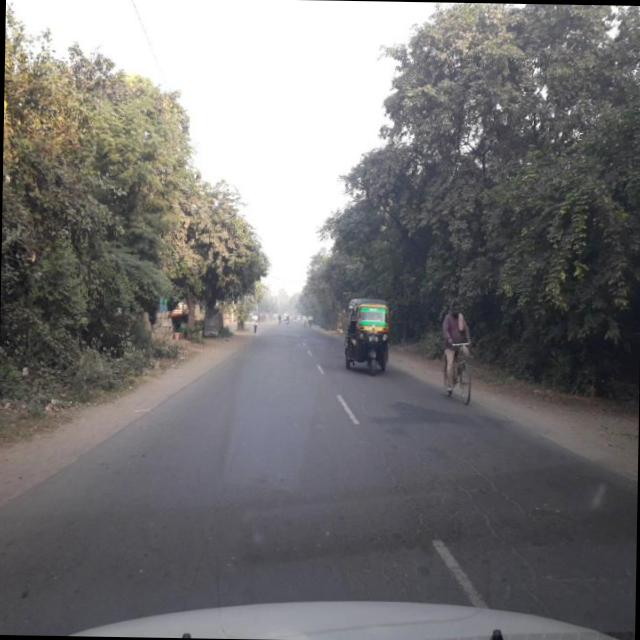crack: (434, 452, 562, 592)
